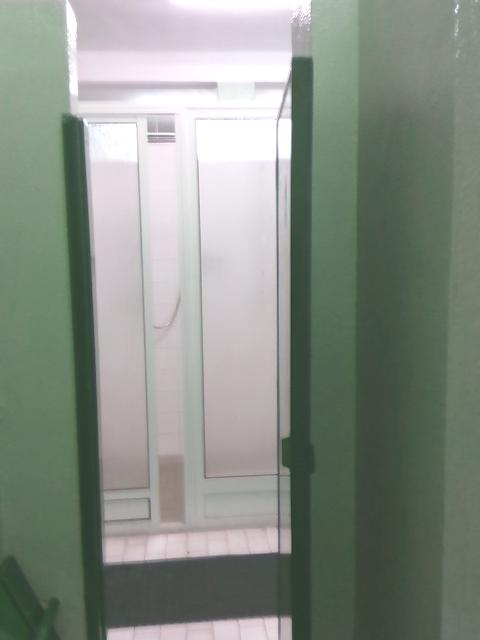open_door: (68, 61, 312, 639)
